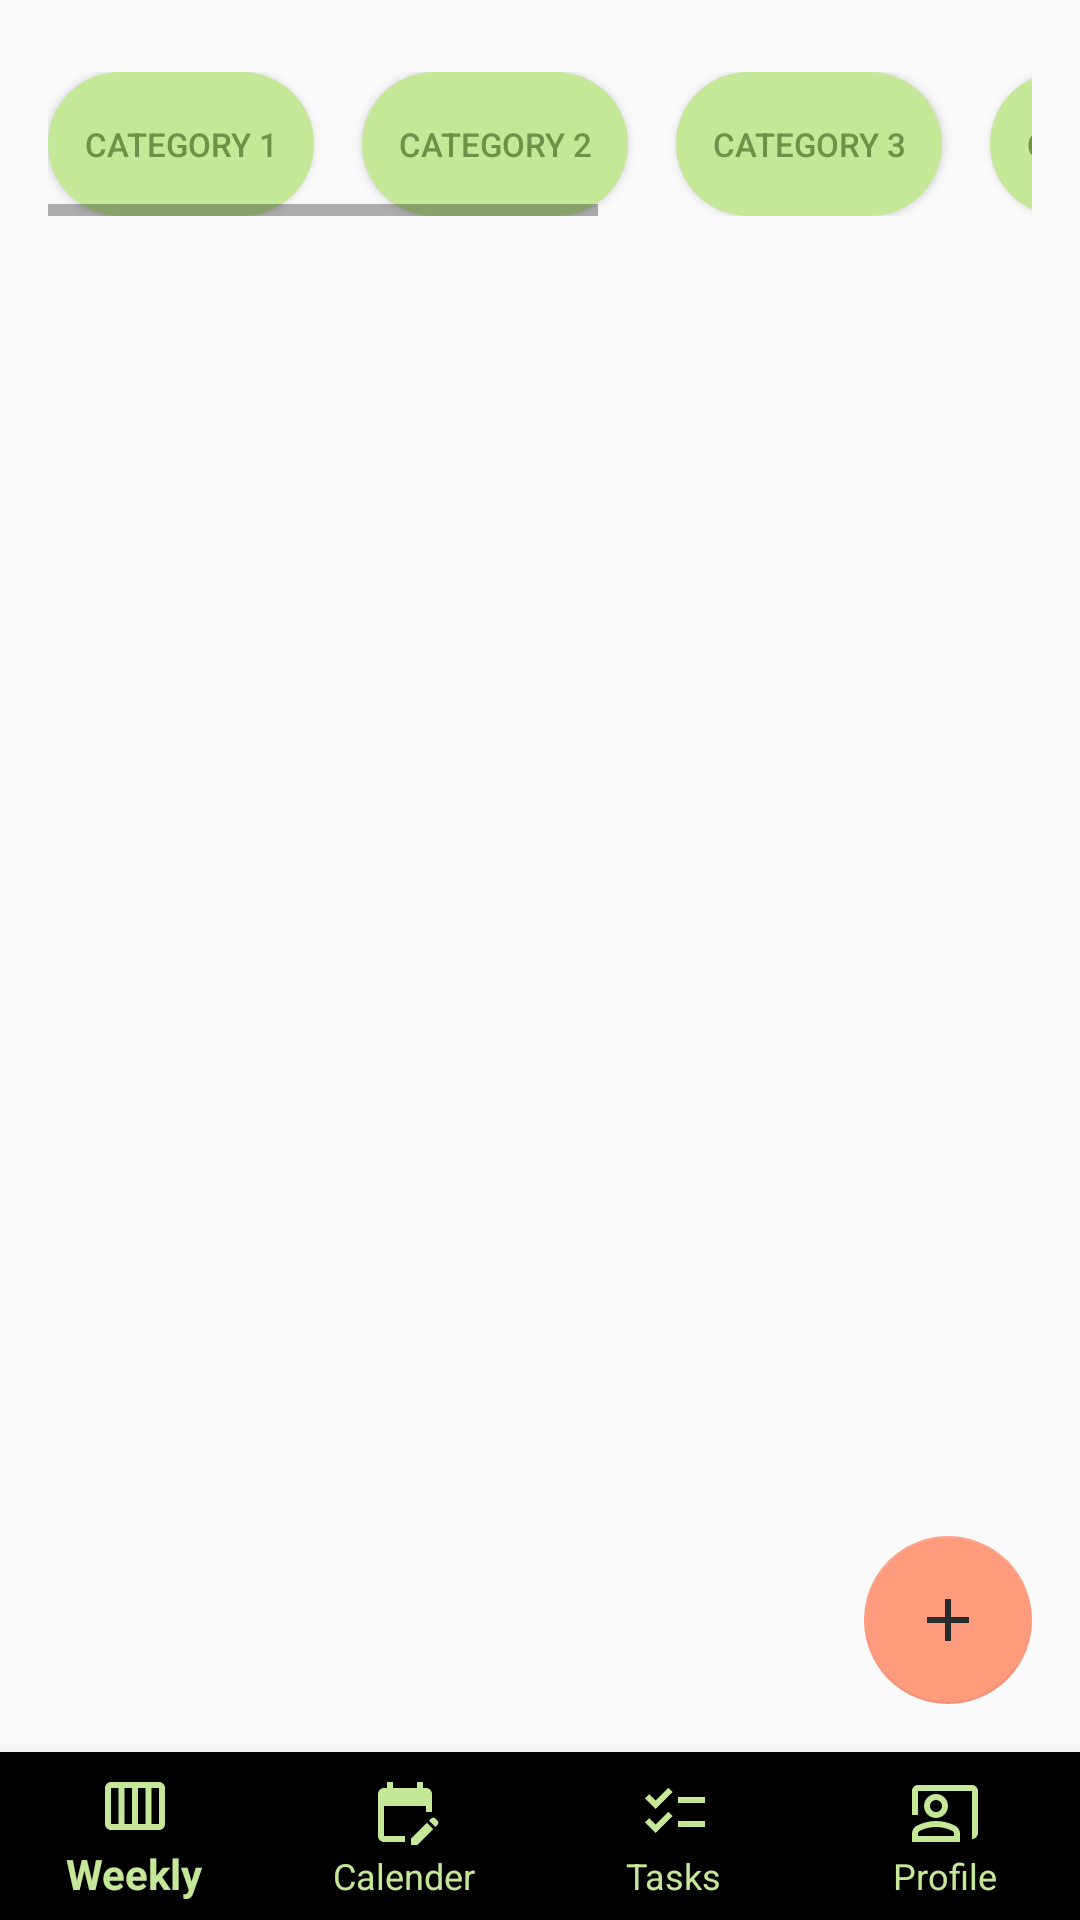

Where icons sit on this 1080 x 1920 app screen, as {"x1": x1, "y1": y1, "x2": x2, "y2": y2}:
add button: {"x1": 864, "y1": 1536, "x2": 1032, "y2": 1704}
